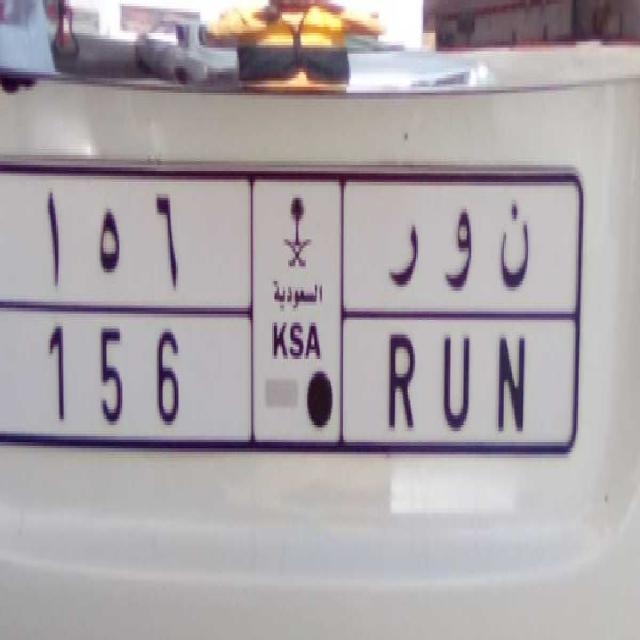license_plate: (27, 297, 542, 456)
